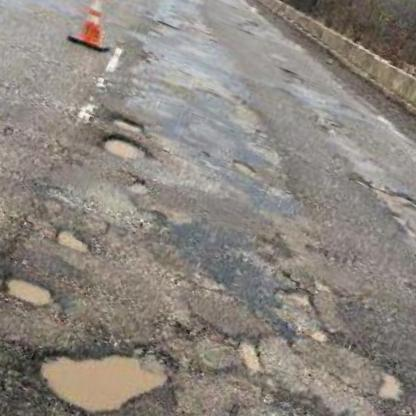pothole: (22, 307, 180, 416), (347, 173, 416, 229), (0, 267, 62, 314), (94, 126, 155, 170), (228, 334, 274, 379), (370, 367, 413, 410), (49, 222, 96, 257), (273, 279, 318, 310), (106, 106, 148, 136), (227, 154, 263, 179), (302, 321, 332, 345)
